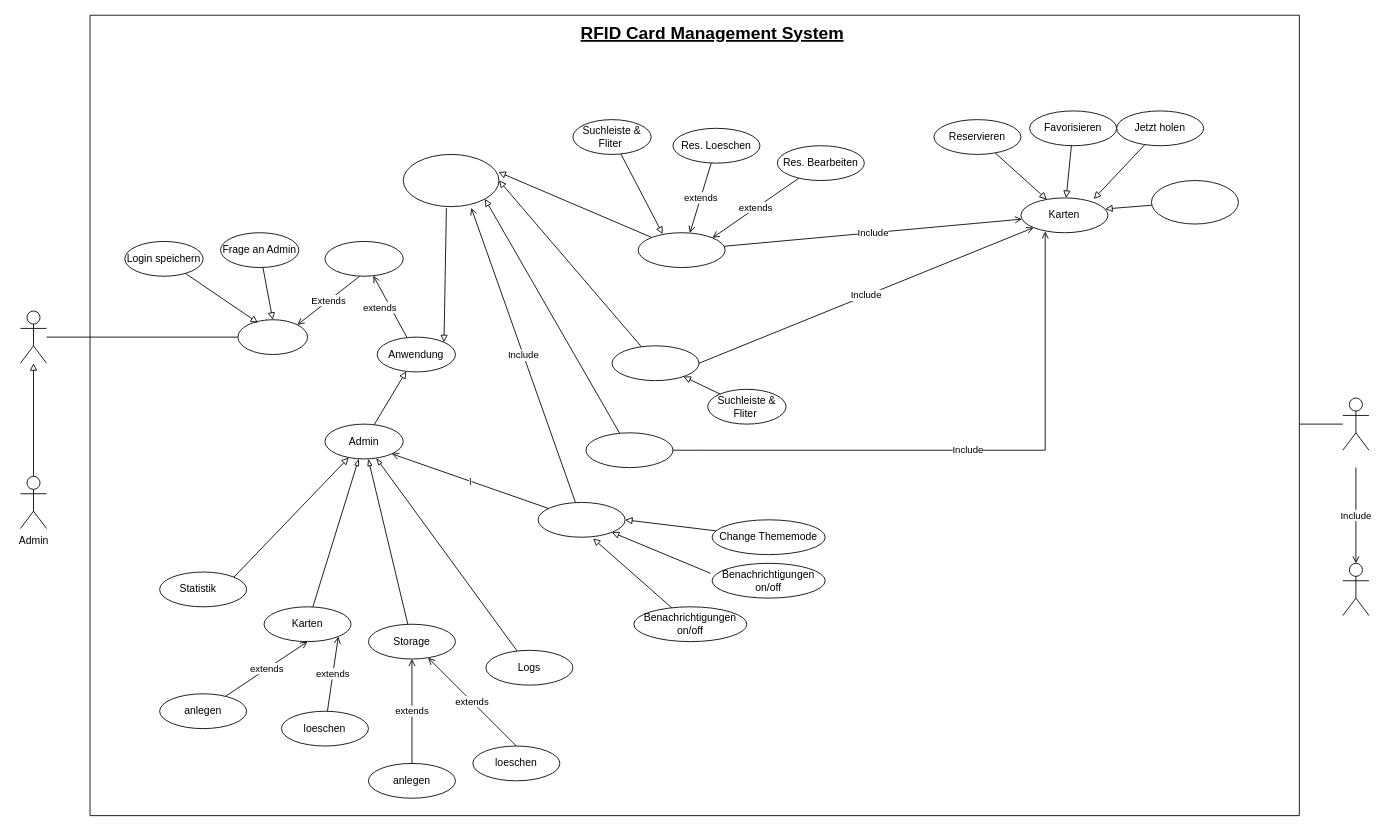
The diagram is 1396 pixels wide and 832 high, and some of its shapes have lost their labels. The shapes that lost their labels are listed below. From the top down, each one's centre as x and y in pixels, then its label:
point 450,180: Client
point 1194,202: Benachrichtigung wenn frei
point 363,258: via Microsoft
point 681,250: Reservation-Page
point 33,336: Teacher
point 272,337: Login
point 655,363: Cards-Page
point 1355,423: API
point 629,450: Favoriten
point 581,519: Settings-Page
point 1355,589: Datenbank
